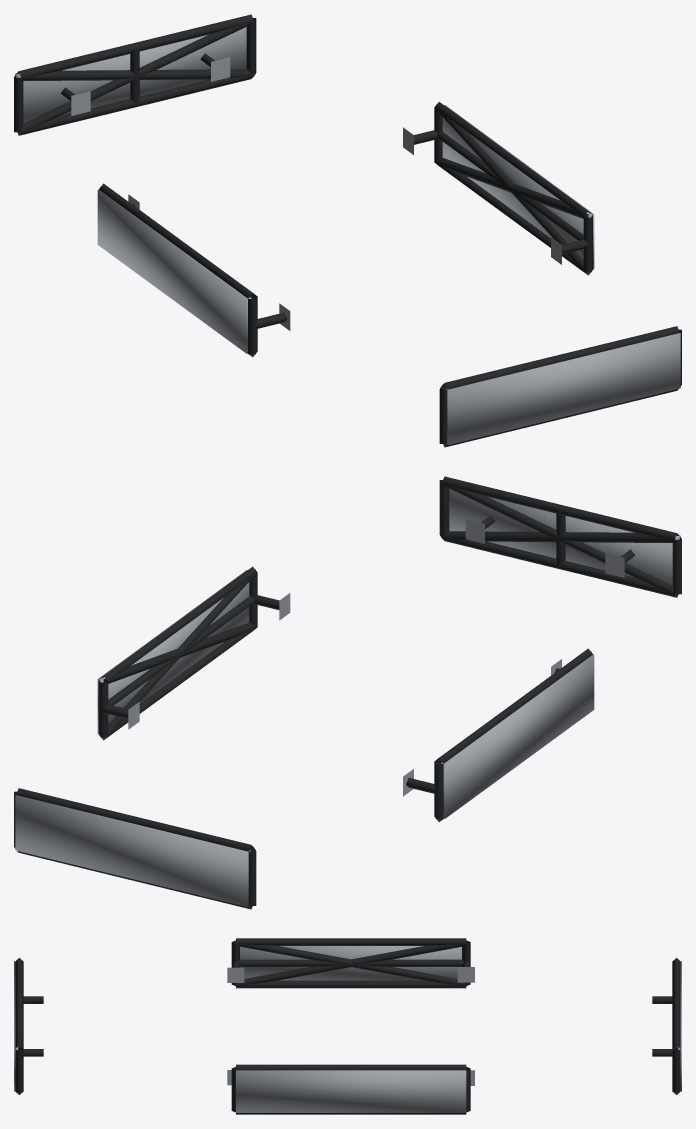
The model's file is mizuchi_pavio_protecao.glb.
3 renders of one model, top to bottom at view 1: azimuth 30°, elevation 25°; view 2: azimuth 150°, elevation 25°; view 3: azimuth 270°, elevation 25°, orthographic. The views are drawn at different scales.
Parts seen in each view (by area): view 1: Protection_front_Level3_Details, Protection_left_Level3_Details, Protection_rear_Level1_Details, Protection_rear_Level3_Details, Protection_right_Level1_Details, Protection_rear_Level2_Details, Protection_right_Level2_Details, Protection_right_Level3_Details, Protection_front_Level1_Details, Protection_left_Level1_Details; view 2: Protection_rear_Level3_Details, Protection_left_Level3_Details, Protection_front_Level1_Details, Protection_front_Level3_Details, Protection_right_Level1_Details, Protection_front_Level2_Details, Protection_right_Level2_Details, Protection_right_Level3_Details, Protection_rear_Level1_Details, Protection_left_Level1_Details; view 3: Protection_right_Level3_Details, Protection_left_Level1_Details, Protection_left_Level2_Details, Protection_left_Level3_Details, Protection_right_Level1_Details, Protection_rear_Level1_Details, Protection_front_Level1_Details.
Boxes of the visible parts, x1=… form: Protection_front_Level3_Details: x1=445, y1=333, x2=680, y2=444; Protection_left_Level3_Details: x1=97, y1=189, x2=251, y2=353; Protection_rear_Level1_Details: x1=14, y1=14, x2=256, y2=135; Protection_rear_Level3_Details: x1=15, y1=27, x2=246, y2=123; Protection_right_Level1_Details: x1=403, y1=102, x2=592, y2=275; Protection_rear_Level2_Details: x1=16, y1=21, x2=253, y2=134; Protection_right_Level2_Details: x1=434, y1=108, x2=592, y2=274; Protection_right_Level3_Details: x1=442, y1=105, x2=594, y2=269; Protection_front_Level1_Details: x1=439, y1=326, x2=681, y2=447; Protection_left_Level1_Details: x1=99, y1=183, x2=290, y2=357; Protection_rear_Level3_Details: x1=15, y1=795, x2=250, y2=906; Protection_left_Level3_Details: x1=440, y1=654, x2=594, y2=818; Protection_front_Level1_Details: x1=439, y1=476, x2=681, y2=597; Protection_front_Level3_Details: x1=449, y1=489, x2=680, y2=585; Protection_right_Level1_Details: x1=98, y1=566, x2=290, y2=740; Protection_front_Level2_Details: x1=442, y1=483, x2=679, y2=596; Protection_right_Level2_Details: x1=100, y1=573, x2=257, y2=739; Protection_right_Level3_Details: x1=97, y1=570, x2=249, y2=734; Protection_rear_Level1_Details: x1=14, y1=788, x2=256, y2=909; Protection_left_Level1_Details: x1=403, y1=648, x2=592, y2=821; Protection_right_Level3_Details: x1=236, y1=1070, x2=466, y2=1112; Protection_left_Level1_Details: x1=227, y1=938, x2=474, y2=988; Protection_left_Level2_Details: x1=235, y1=941, x2=466, y2=986; Protection_left_Level3_Details: x1=240, y1=946, x2=461, y2=980; Protection_right_Level1_Details: x1=227, y1=1064, x2=474, y2=1114; Protection_rear_Level1_Details: x1=652, y1=958, x2=680, y2=1094; Protection_front_Level1_Details: x1=15, y1=958, x2=43, y2=1094.
Bounding box in the file's own units: 1.99 × 0.354 × 4.29.
1 material, 1 textured.
